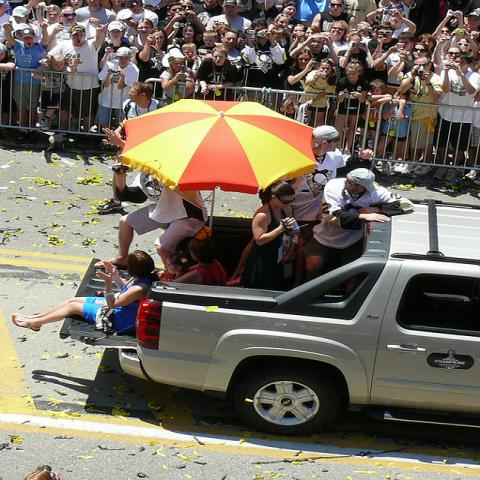car: (117, 198, 479, 437)
truck: (57, 200, 479, 436)
